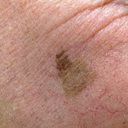Melanoma: (55, 50, 93, 93)
